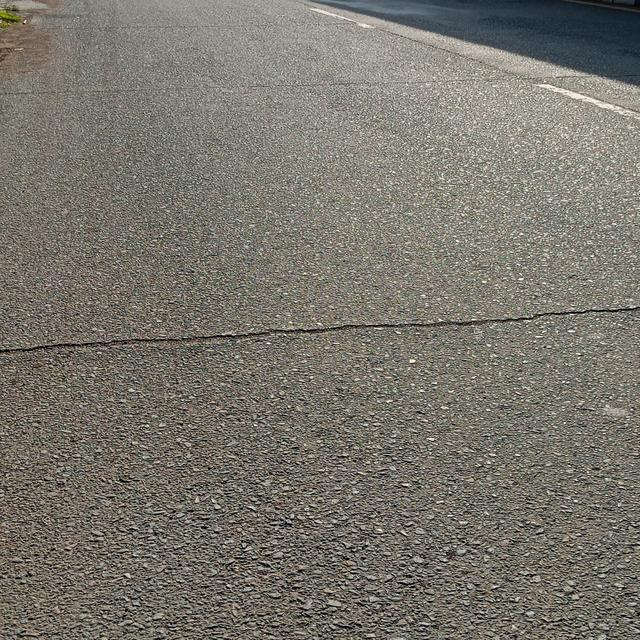Melintang: (0, 293, 640, 374)
